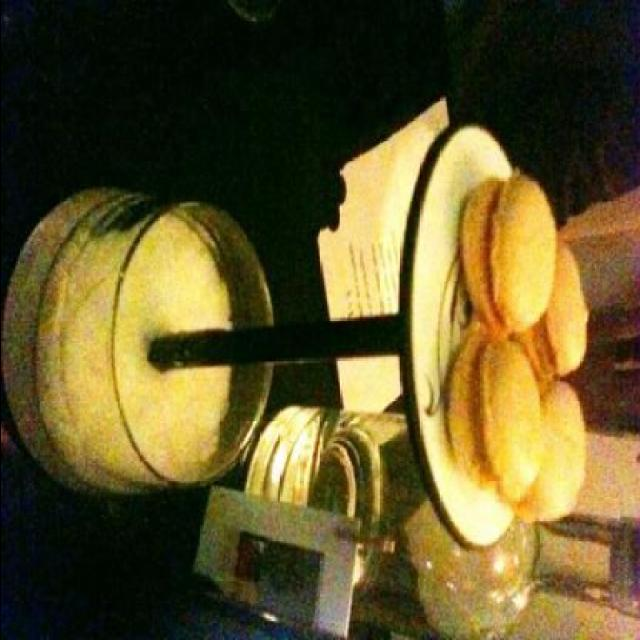Macaron: (422, 150, 600, 554)
